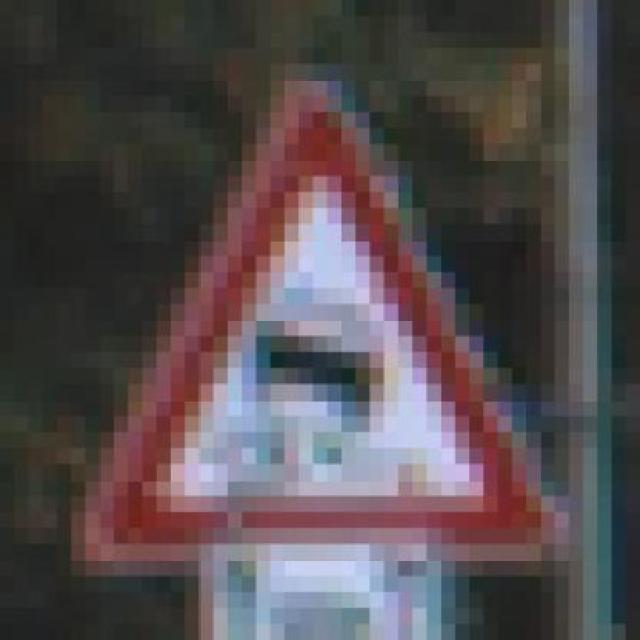Slippery Road Ahead: (85, 64, 569, 576)
